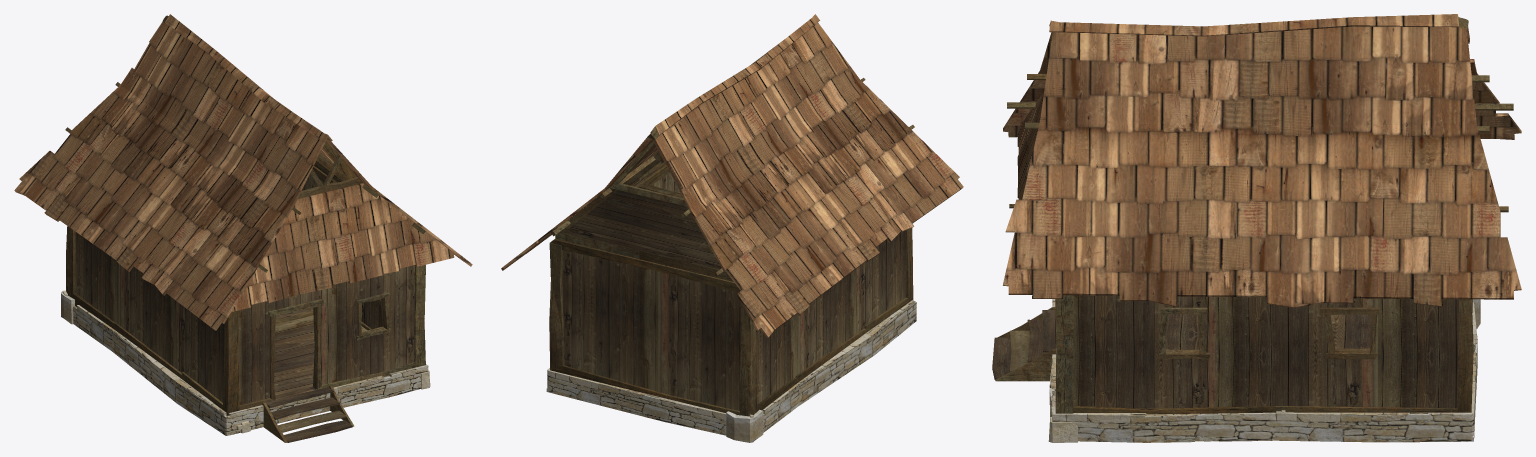
The model's file is WoodenCabin-gltf.gltf.
The picture shows the model from 3 angles, left to right: view 1: azimuth 30°, elevation 25°; view 2: azimuth 150°, elevation 25°; view 3: azimuth 270°, elevation 25°; orthographic projection. The views are drawn at different scales.
Parts seen in each view (by area): view 1: Roof_roof, WoodCabin; view 2: Roof_roof, WoodCabin; view 3: Roof_roof, WoodCabin.
Boxes of the visible parts, <box> form: Roof_roof: <box>14,14,472,330</box>; WoodCabin: <box>61,163,430,442</box>; Roof_roof: <box>501,14,963,338</box>; WoodCabin: <box>546,162,916,442</box>; Roof_roof: <box>1003,14,1521,307</box>; WoodCabin: <box>992,295,1480,442</box>.
Size of the model in its own units: 66.63 by 66.72 by 87.92.
Materials: 1 (1 with a texture image).
